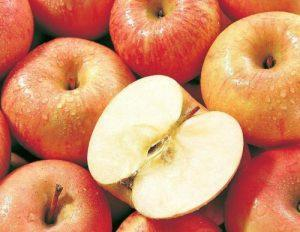apple: (87, 76, 244, 220), (1, 36, 136, 160), (199, 10, 300, 147), (107, 1, 221, 86), (1, 159, 110, 232), (226, 148, 300, 232)
